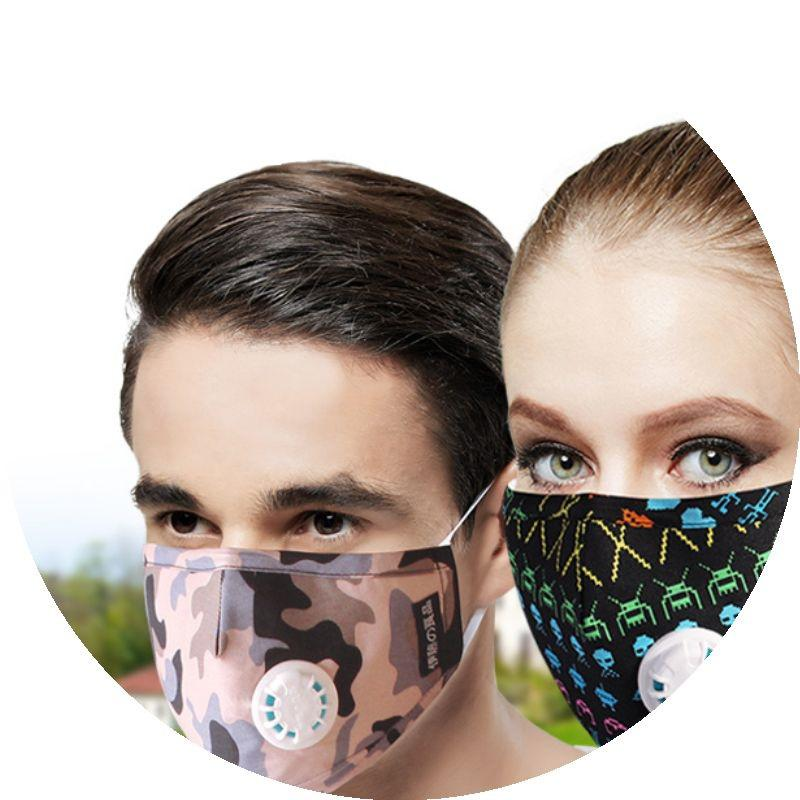OK: (136, 453, 484, 800), (502, 391, 800, 753)
